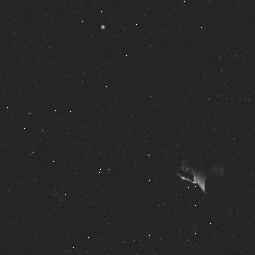debris: (170, 142, 229, 202)
